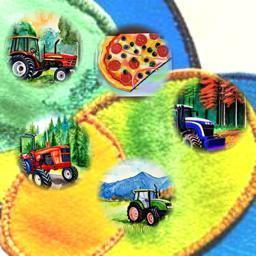something that can be eaten: (95, 30, 172, 93)
